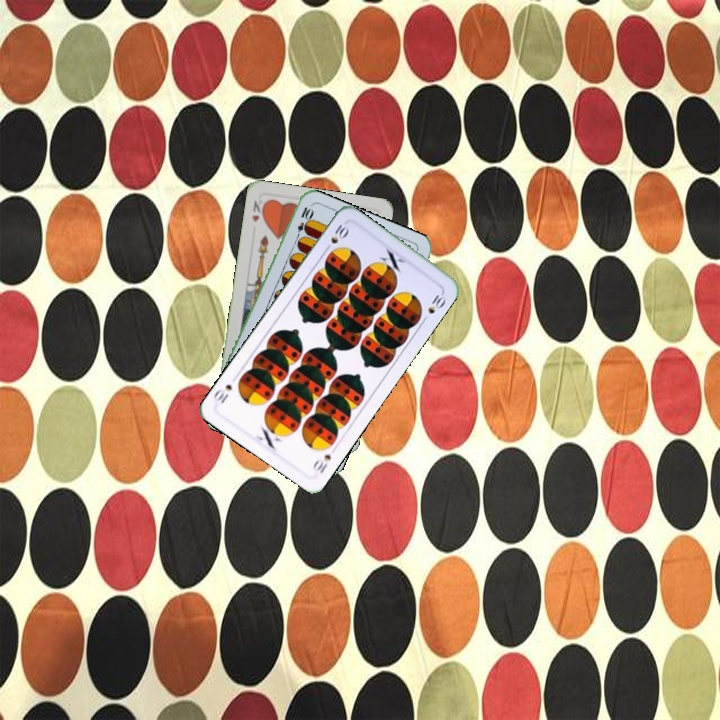E10: (291, 203, 314, 243)
HK: (248, 196, 268, 225)
S10: (320, 219, 351, 254), (309, 450, 334, 476)
